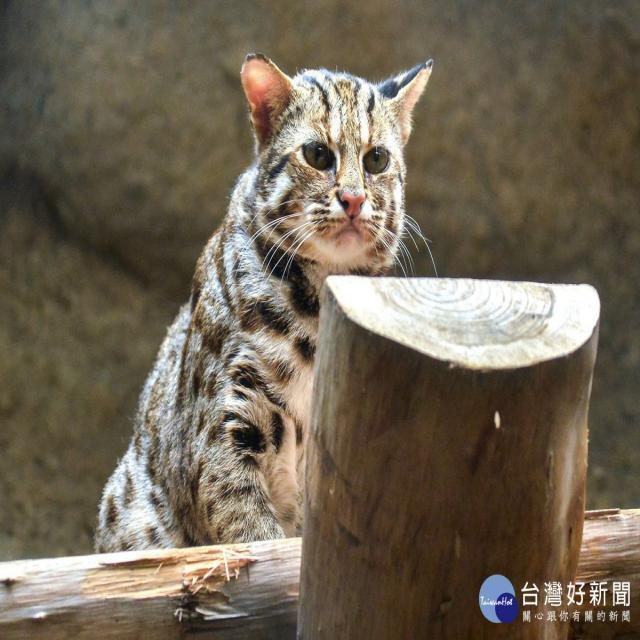leopard: (244, 39, 447, 630)
